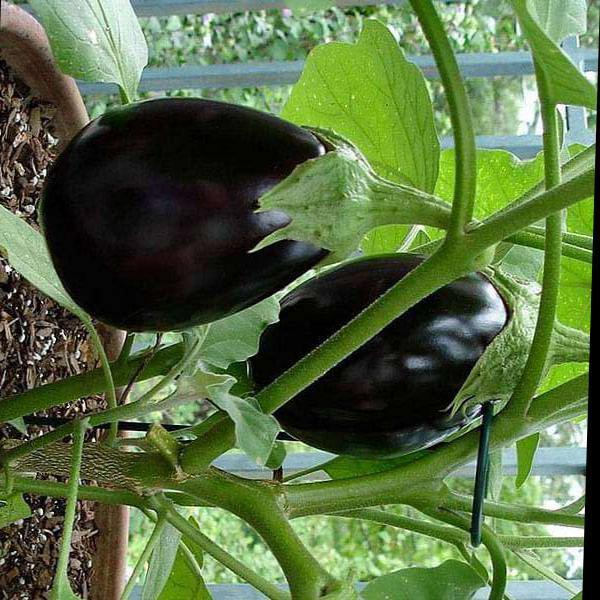eggplant: (24, 85, 467, 345), (226, 235, 594, 490)
